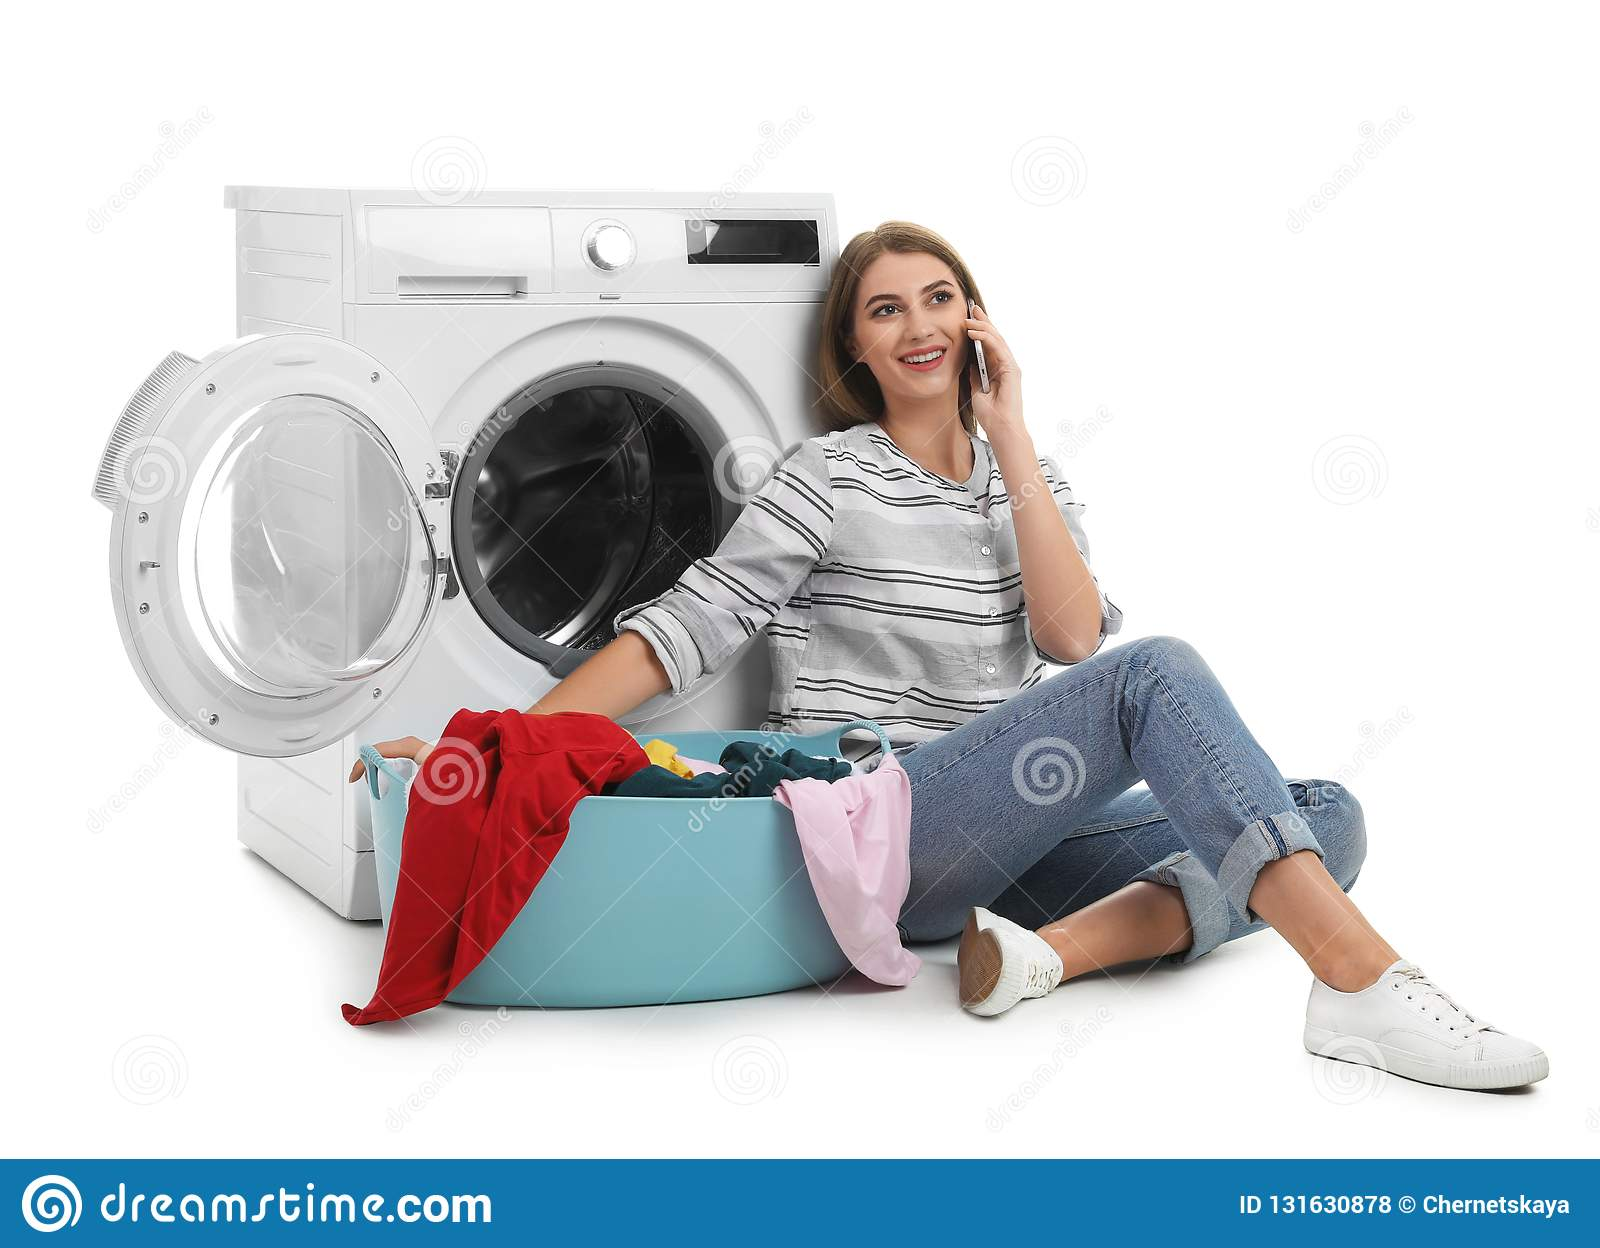phone: (957, 299, 997, 397)
talk: (866, 273, 1022, 432)
